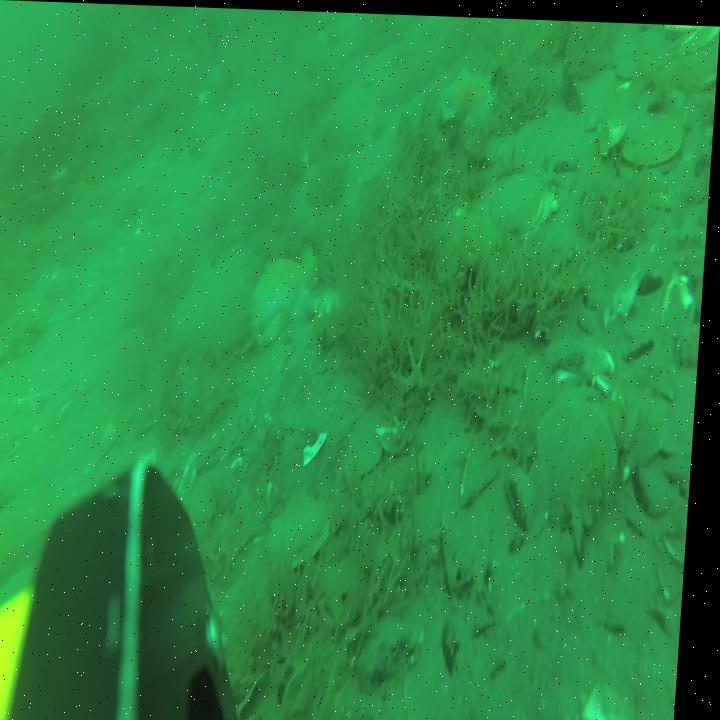scallop: (534, 396, 623, 521), (273, 494, 341, 561), (493, 159, 553, 230), (624, 99, 684, 160)
starfish: (255, 251, 322, 348), (440, 60, 500, 128)
